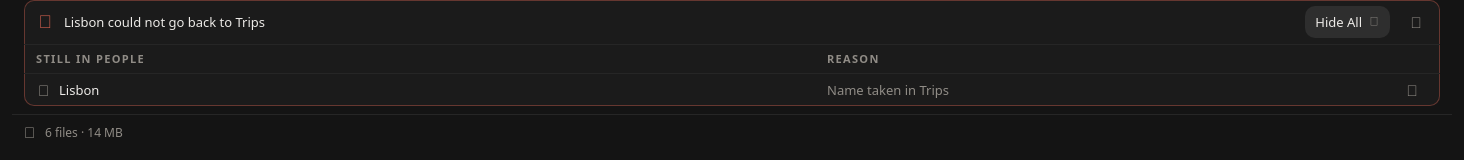
Scenario: the banner's toggle names all its rows once a folder is among them
This screenshot has width=1464, height=160.
Click the button "Hide All" at [1348, 22], box [1305,6,1390,38]
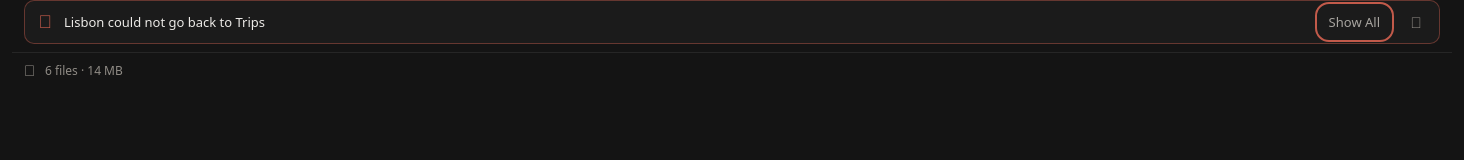
expect the button "Show All" is shown: met, box [1319,6,1390,38]
